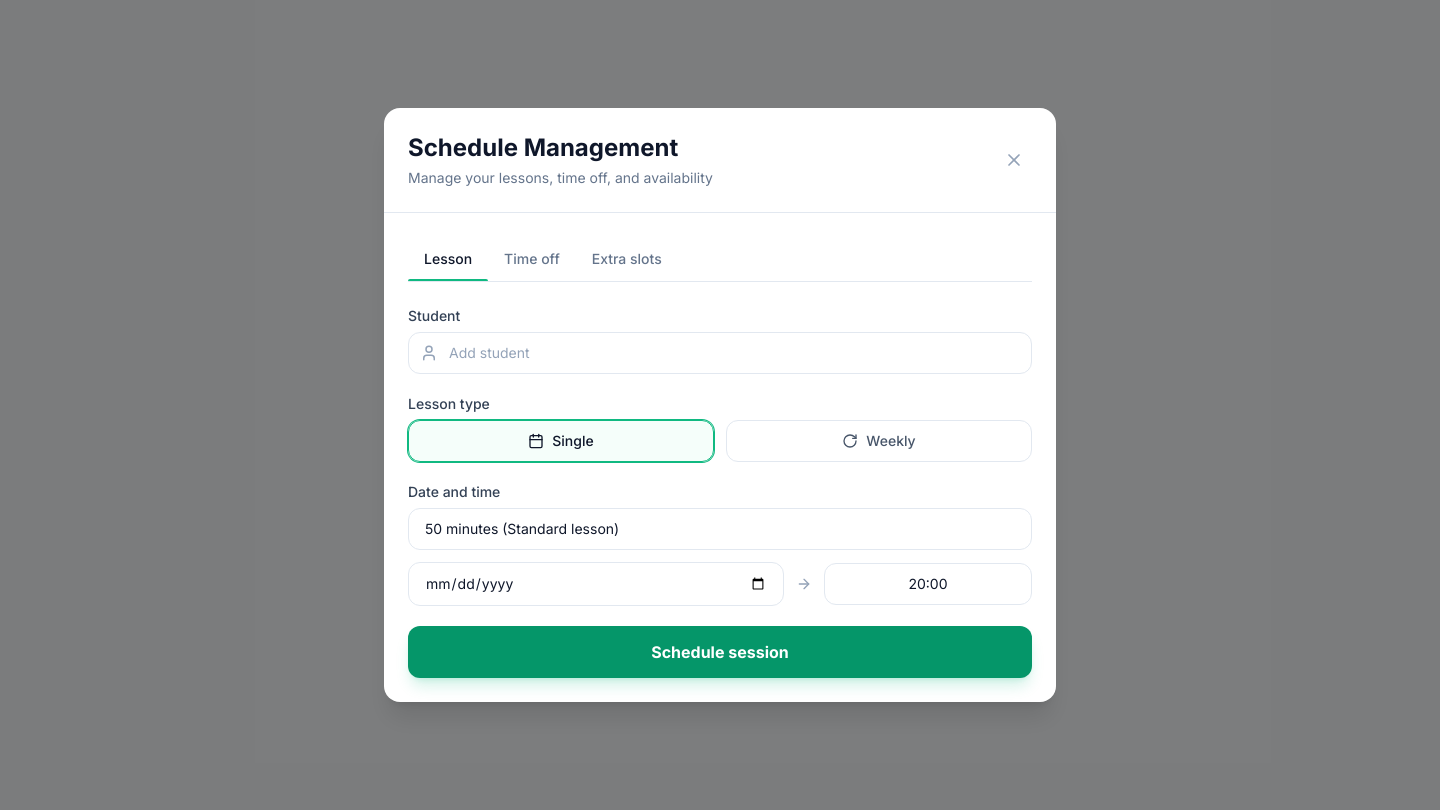
Test: ScheduleManagerModal › tab navigation › shows Extra slots tab content when clicked
This screenshot has width=1440, height=810.
What coordinates should you click on to do the following:
click the button "Extra slots"
I would click on:
 (627, 259)
Its box is [576,237,678,281].
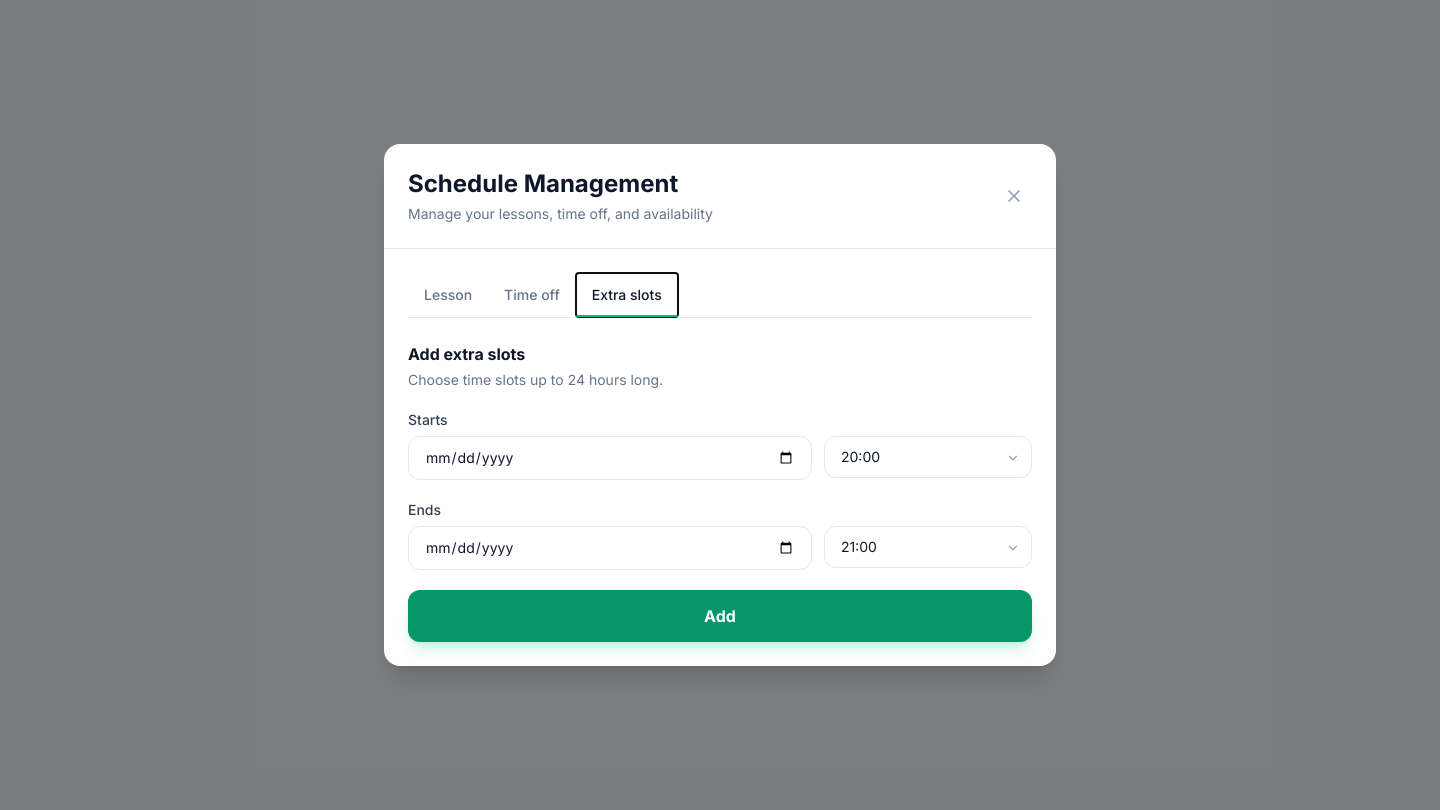
Expected: the heading "Add extra slots" is shown, [408,344,525,364]
Expected: the button "Add" is shown, [408,590,1032,642]
